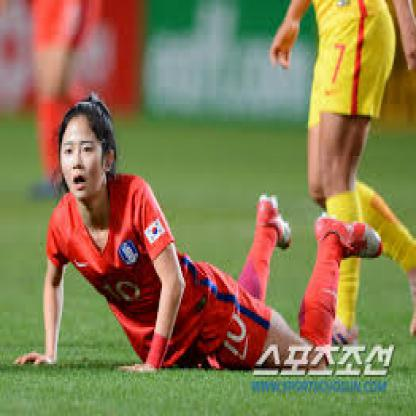Fall_Down: (12, 96, 384, 377)
